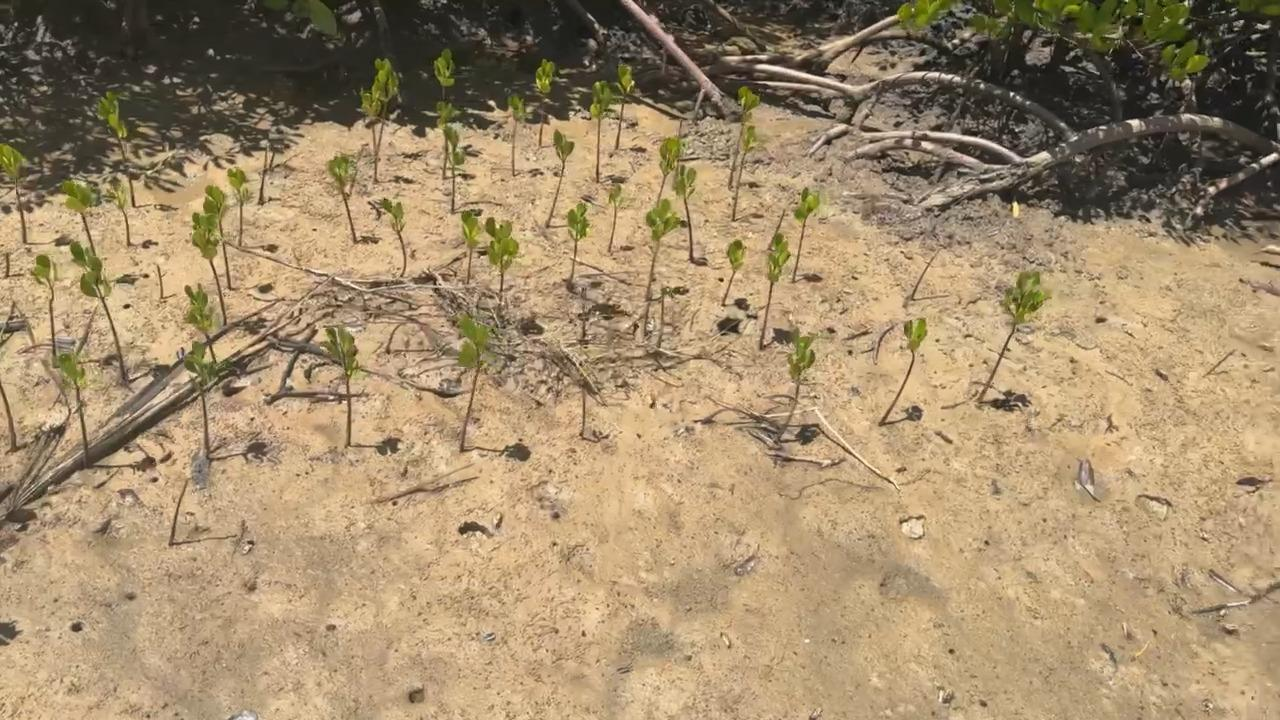Tree: (976, 271, 1051, 404), (80, 246, 127, 379), (184, 339, 233, 457), (878, 318, 928, 426), (357, 59, 399, 184), (94, 91, 135, 207), (320, 325, 359, 446), (457, 310, 490, 452), (773, 337, 815, 442), (190, 213, 227, 326), (758, 233, 792, 350), (57, 350, 89, 469), (644, 199, 680, 300), (727, 86, 759, 190), (31, 254, 59, 368), (202, 185, 231, 289), (545, 128, 575, 228), (790, 187, 820, 283), (371, 198, 407, 278), (0, 143, 28, 242), (327, 154, 358, 243), (63, 179, 98, 257), (731, 125, 759, 221), (184, 283, 216, 363), (486, 216, 519, 292), (672, 164, 697, 261), (591, 80, 612, 183), (228, 167, 255, 247), (442, 122, 464, 214), (460, 209, 486, 285), (567, 201, 590, 281), (656, 139, 683, 206), (437, 101, 460, 179), (721, 239, 747, 306), (614, 62, 634, 149), (912, 247, 943, 300), (537, 58, 555, 147), (0, 380, 19, 453), (169, 479, 190, 545), (508, 93, 524, 177), (113, 186, 131, 247), (434, 48, 455, 99), (607, 183, 622, 252), (257, 139, 270, 205), (156, 264, 168, 299), (580, 388, 586, 438), (5, 252, 10, 278)
